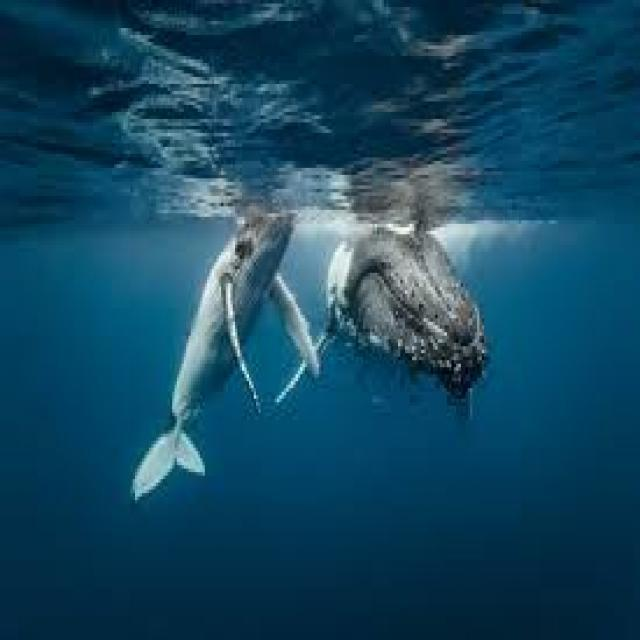blue_whale: (126, 154, 300, 602), (305, 202, 519, 454)
